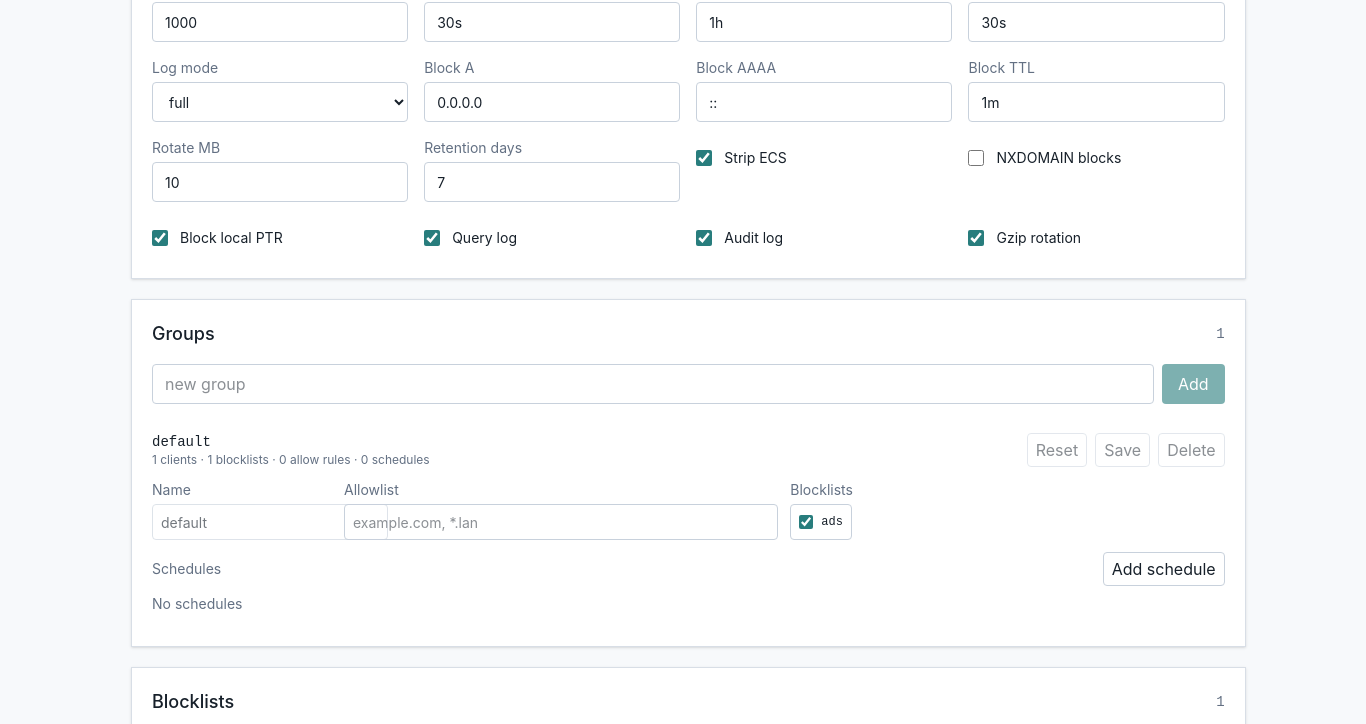
Test: App › shows group creation errors without reloading dashboard data
(page scrolled)
Expected: the element "Groups" is shown, [131,299,1246,647]
Type "kids" into the field with placeholder "new group".
click(653, 384); type("kids")  # box [152,364,1154,404]
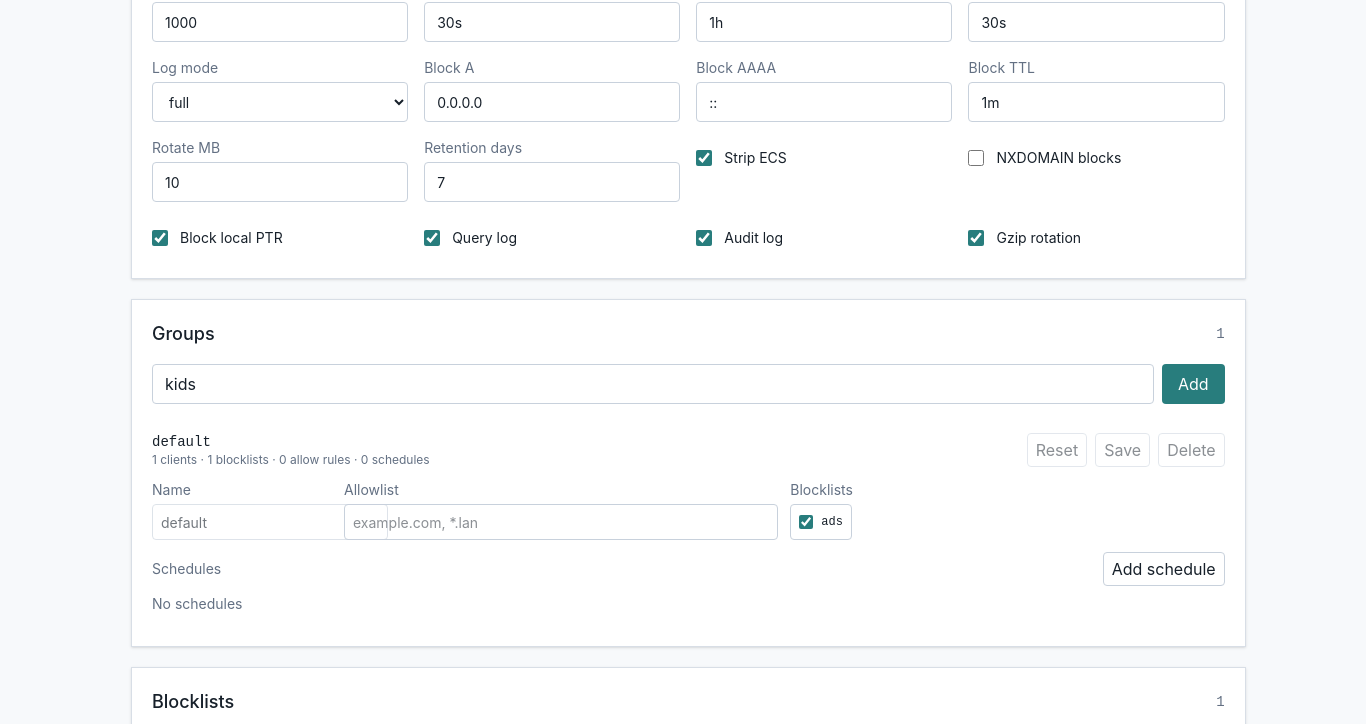
Click the 1st button "Add".
click(1193, 384)  # box [1162,364,1225,404]
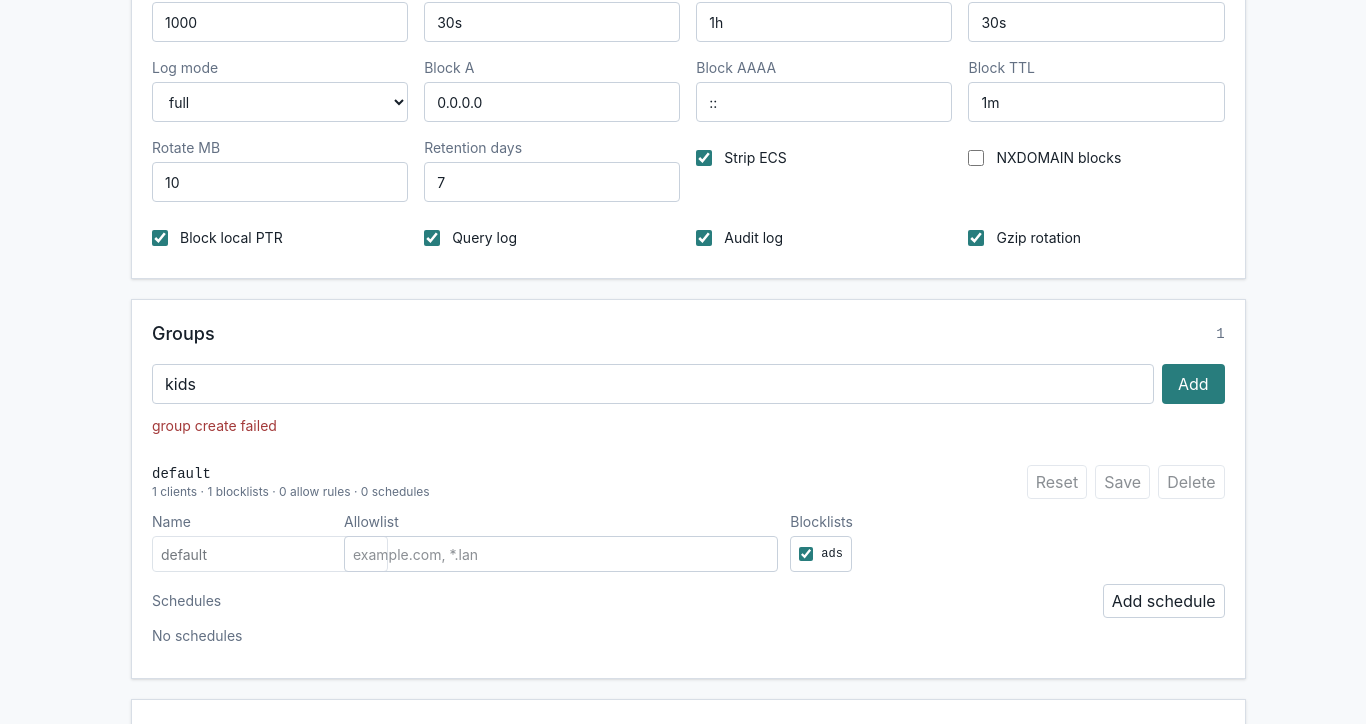
Result: the text "group create failed" is shown at [152,417,277,434]
